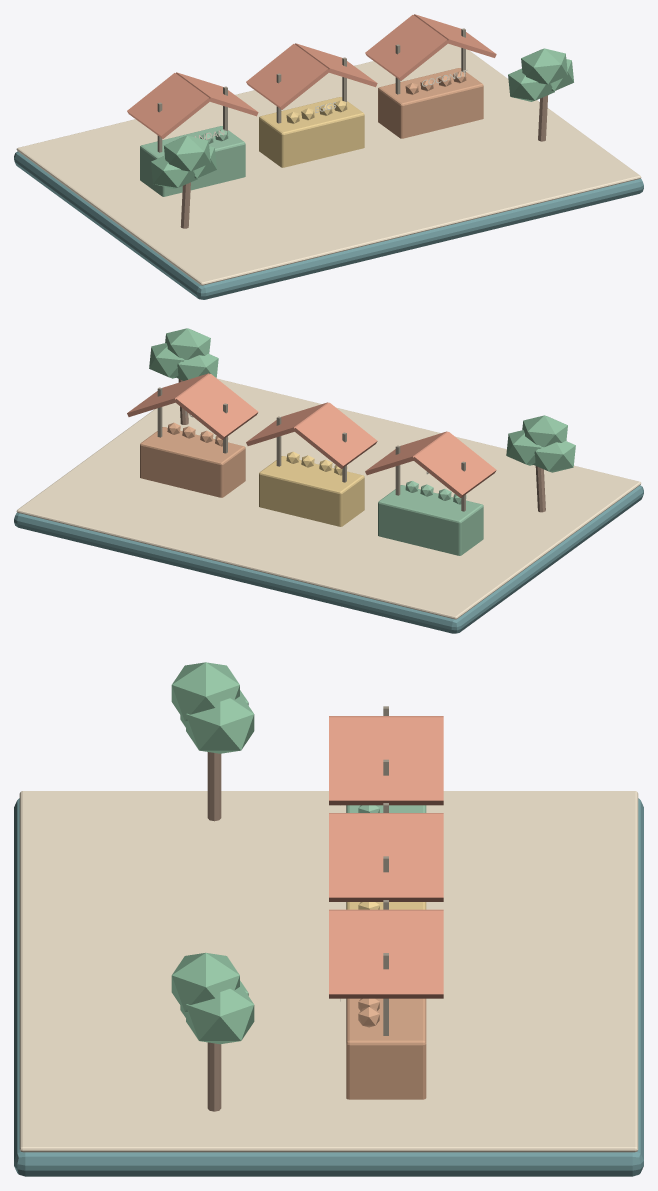
The model's file is market.glb.
3 renders of one model, top to bottom at view 1: azimuth 30°, elevation 25°; view 2: azimuth 150°, elevation 25°; view 3: azimuth 270°, elevation 25°, orthographic. The views are drawn at different scales.
Visible parts, largest first — view 1: Paving, Stage base, Market counter.001, Market counter.002, Market counter, Pitched roof, Pitched roof.004, Pitched roof.002, Rain tree canopy.005, Rain tree canopy.002, Pitched roof.005, Pitched roof.003 (+3 smaller); view 2: Paving, Stage base, Market counter, Market counter.001, Market counter.002, Pitched roof.002, Pitched roof, Pitched roof.004, Rain tree canopy.005, Rain tree canopy.002, Rain tree canopy, Pitched roof.005 (+5 smaller); view 3: Paving, Stage base, Pitched roof.001, Pitched roof.005, Pitched roof.003, Market counter.002, Rain tree canopy.001, Rain tree canopy.004, Rain tree canopy.002, Rain tree canopy.005, Tree trunk.001, Tree trunk.
Boxes of the visible parts, left/top/right/bottom form: Paving: left=16, top=43, right=641, bottom=285; Stage base: left=14, top=151, right=643, bottom=299; Market counter.001: left=259, top=97, right=364, bottom=167; Market counter.002: left=378, top=68, right=483, bottom=138; Market counter: left=140, top=126, right=245, bottom=196; Pitched roof: left=127, top=73, right=210, bottom=138; Pitched roof.004: left=365, top=15, right=447, bottom=80; Pitched roof.002: left=246, top=44, right=328, bottom=109; Rain tree canopy.005: left=521, top=48, right=567, bottom=84; Rain tree canopy.002: left=164, top=135, right=210, bottom=171; Pitched roof.005: left=414, top=14, right=496, bottom=57; Pitched roof.003: left=295, top=43, right=377, bottom=87; Paving: left=16, top=378, right=641, bottom=619; Stage base: left=14, top=485, right=643, bottom=633; Market counter: left=378, top=485, right=483, bottom=555; Market counter.001: left=259, top=456, right=364, bottom=526; Market counter.002: left=140, top=427, right=245, bottom=497; Pitched roof.002: left=293, top=402, right=377, bottom=468; Pitched roof: left=413, top=432, right=496, bottom=497; Pitched roof.004: left=175, top=373, right=258, bottom=439; Rain tree canopy.005: left=165, top=328, right=210, bottom=359; Rain tree canopy.002: left=522, top=415, right=567, bottom=447; Rain tree canopy: left=532, top=441, right=575, bottom=472; Pitched roof.005: left=127, top=373, right=209, bottom=416; Paving: left=19, top=791, right=638, bottom=1152; Stage base: left=14, top=798, right=643, bottom=1176; Pitched roof.001: left=329, top=717, right=443, bottom=805; Pitched roof.005: left=329, top=911, right=443, bottom=998; Pitched roof.003: left=329, top=814, right=443, bottom=901; Market counter.002: left=346, top=998, right=426, bottom=1099; Rain tree canopy.001: left=186, top=694, right=254, bottom=753; Rain tree canopy.004: left=186, top=985, right=254, bottom=1044; Rain tree canopy.002: left=171, top=662, right=239, bottom=721; Rain tree canopy.005: left=171, top=952, right=239, bottom=1012; Tree trunk.001: left=207, top=1042, right=221, bottom=1111; Tree trunk: left=207, top=752, right=221, bottom=821.
Size of the model in its own units: 15 by 3.7 by 11.
